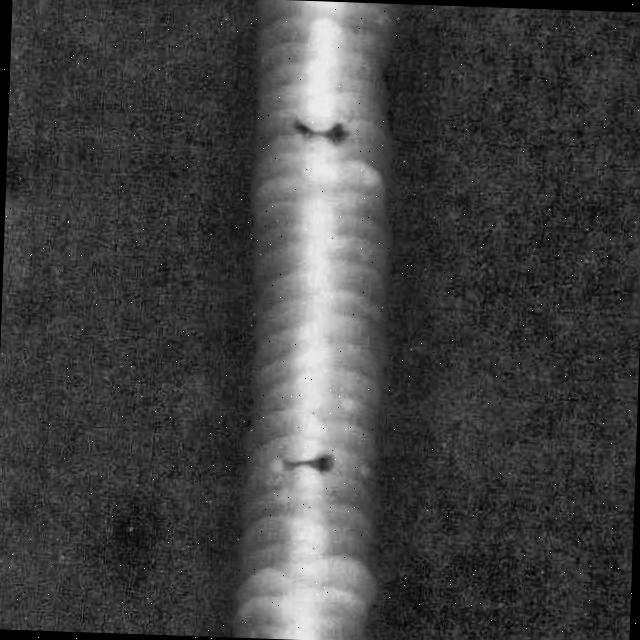Slag: (278, 96, 354, 154), (266, 442, 344, 487)
